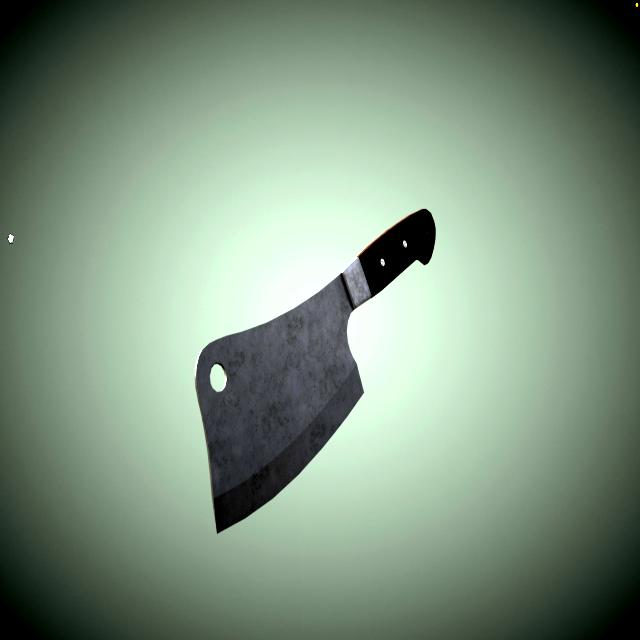cleaver: (198, 215, 427, 522)
